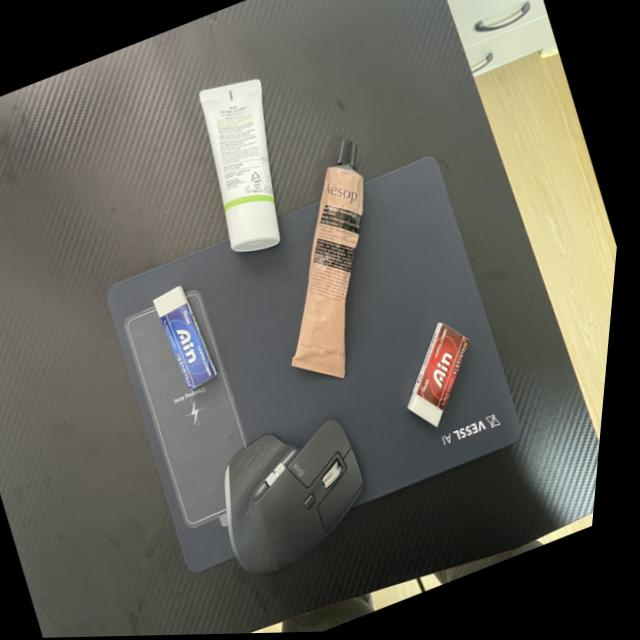blue: (144, 272, 242, 405)
red: (378, 307, 509, 448)
